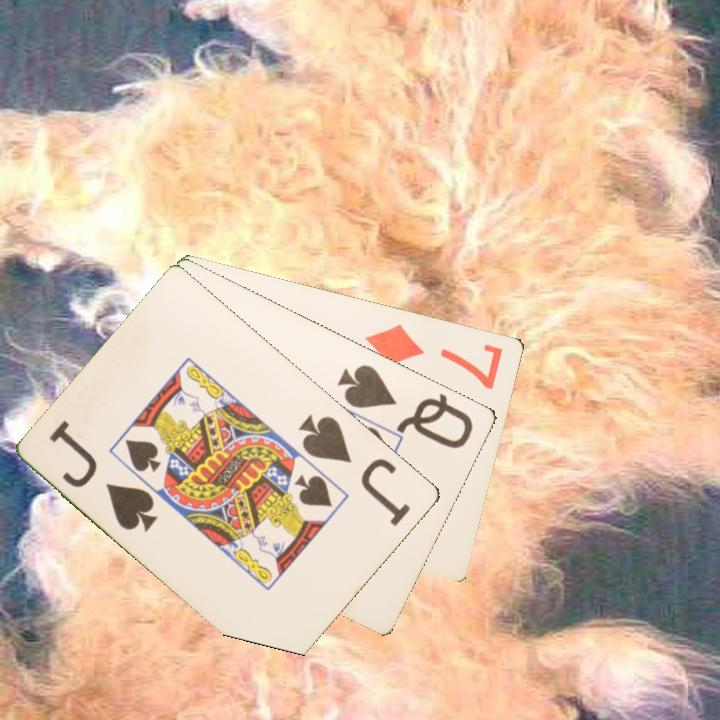7d: (362, 320, 507, 392)
Js: (295, 411, 414, 529), (46, 416, 162, 535)
Qs: (335, 360, 477, 452)
